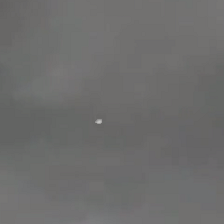Target: (95, 119, 102, 124)
